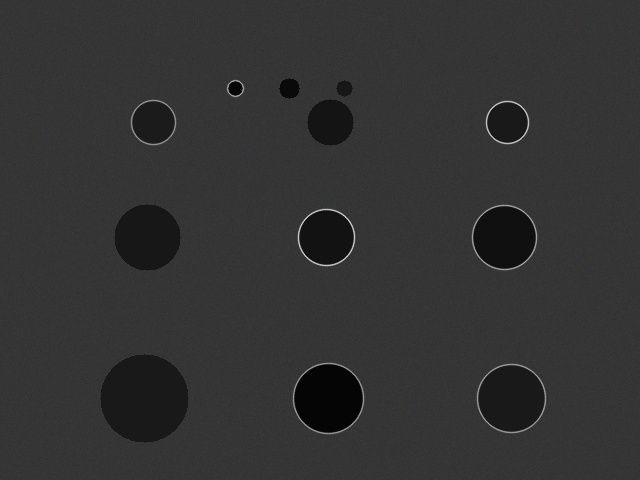hole: (100, 354, 188, 442), (293, 363, 363, 433), (477, 364, 545, 432), (114, 204, 180, 270), (472, 205, 536, 269), (298, 209, 354, 265), (307, 99, 353, 145), (131, 100, 175, 144), (486, 101, 528, 143), (279, 78, 299, 98), (227, 80, 243, 96), (336, 80, 352, 96)
